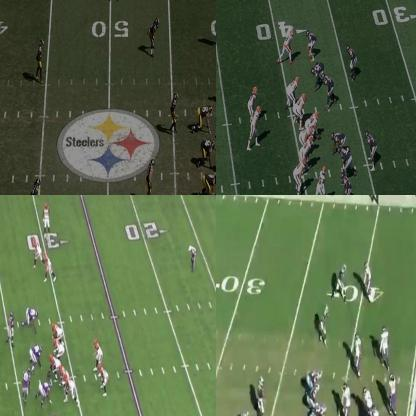CENTER: (308, 109, 320, 132), (48, 354, 59, 379), (310, 401, 328, 415)
DB: (306, 30, 317, 59), (151, 17, 160, 52), (37, 40, 43, 80), (31, 181, 39, 194)
LB: (145, 157, 155, 194), (368, 132, 378, 168), (389, 373, 398, 413), (346, 45, 356, 78), (172, 92, 180, 132), (22, 368, 30, 400), (344, 173, 354, 194), (363, 388, 373, 407), (8, 311, 14, 340)
QB: (249, 106, 260, 148), (256, 377, 266, 415), (93, 339, 102, 367)
SKILL: (294, 160, 309, 194), (317, 303, 328, 342), (282, 28, 294, 62), (361, 258, 371, 298), (336, 262, 346, 302), (314, 168, 329, 194), (248, 85, 258, 114), (382, 325, 390, 360), (42, 202, 50, 236), (44, 251, 53, 280), (34, 238, 42, 264)
